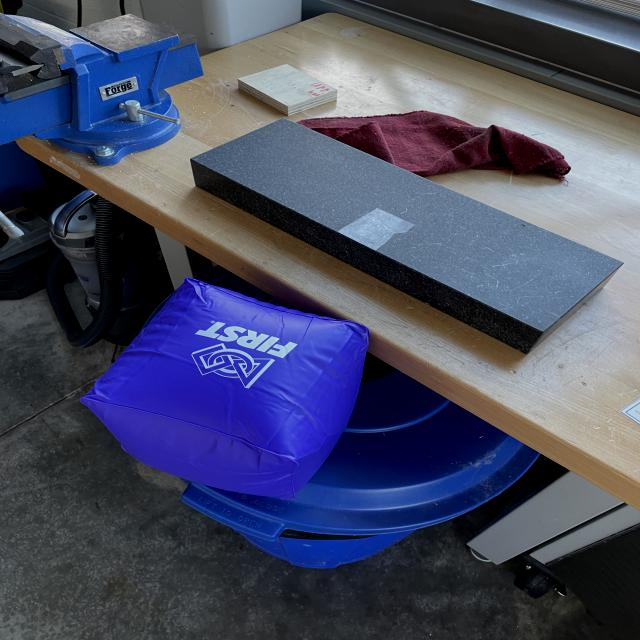frc_cube: (72, 277, 392, 499)
